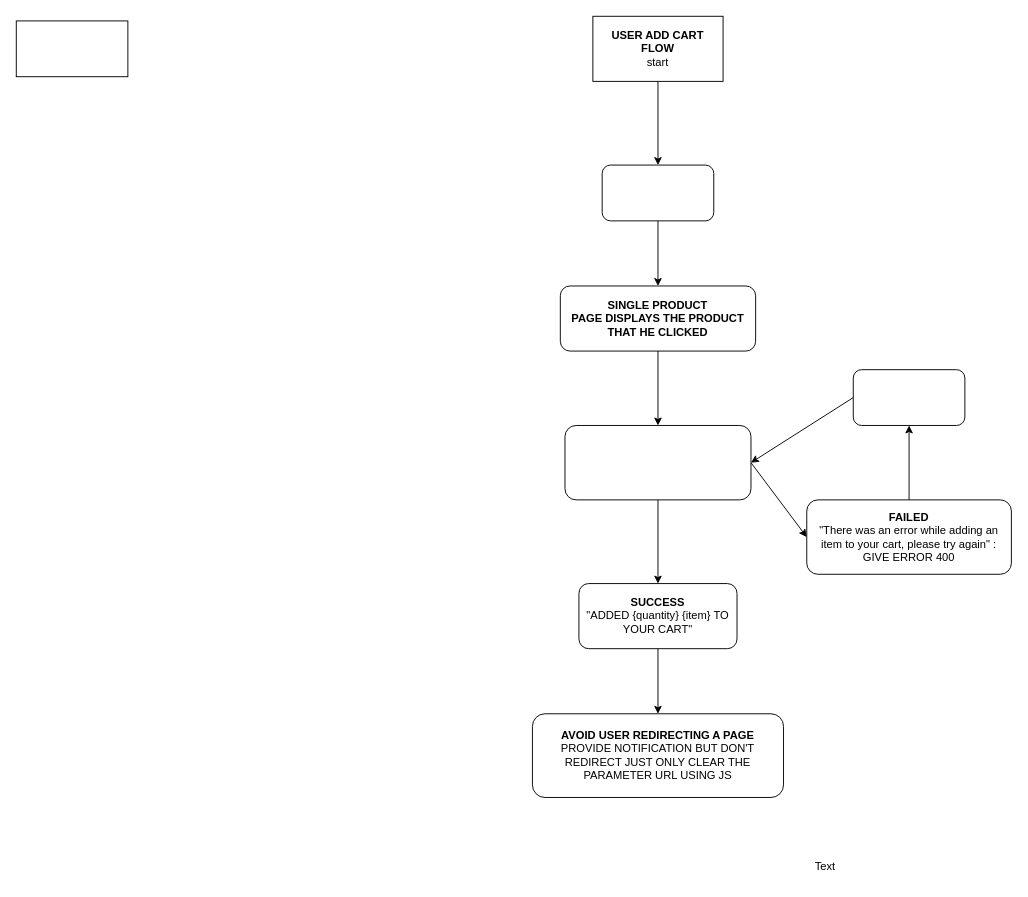
Some shapes in this 1028 by 897 pixel diagram are drawn without their labels. The shapes that lost their labels are listed below. From the top down, each one's box as (x1, y1, x2, y2) in pixels, then its label:
(601, 164, 714, 221): USER CLICK MENU
(852, 369, 965, 425): REDIRECT AGAIN TO SINGLE PAGE
(564, 425, 751, 500): (AFTER USER HAS SELECTS THE AMOUNT) USER CLICK ADD TO CART
